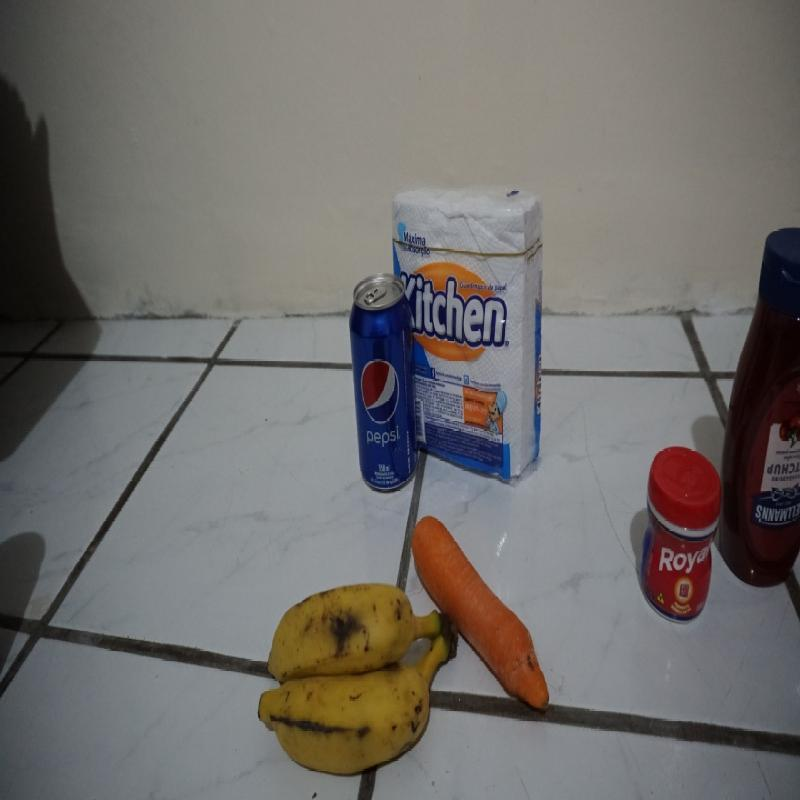Banana: (257, 578, 457, 764)
Carrot: (459, 545, 552, 730)
Ketchup: (726, 216, 800, 590)
Napkin: (420, 183, 544, 480)
Soda can: (352, 270, 419, 482)
Yeast: (637, 445, 721, 618)
